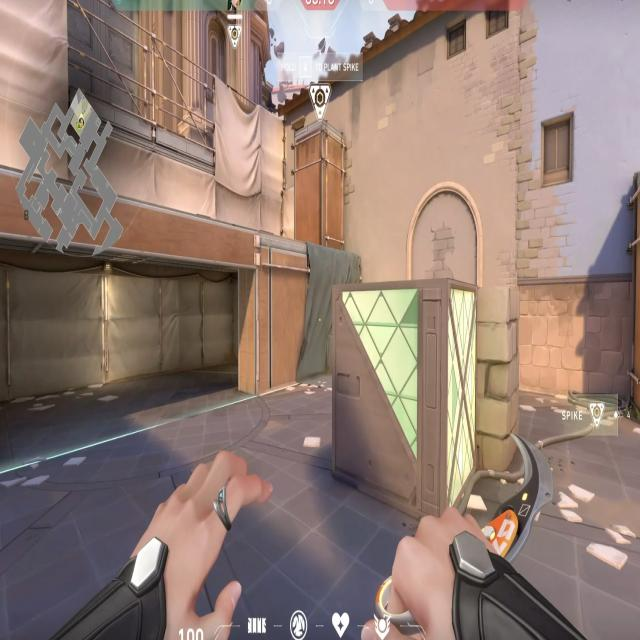A_Heaven_Box: (294, 116, 350, 251)
A_Hell: (1, 175, 264, 436)
A_Site_Box: (333, 281, 522, 522)
